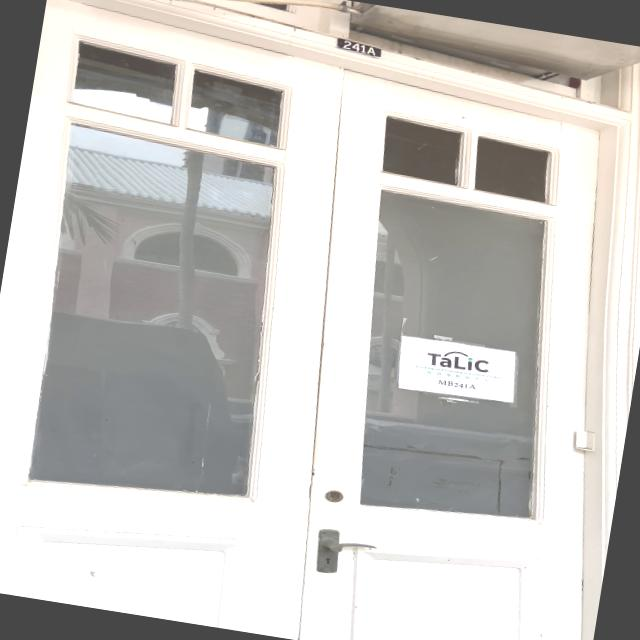room241a: (332, 35, 385, 61)
